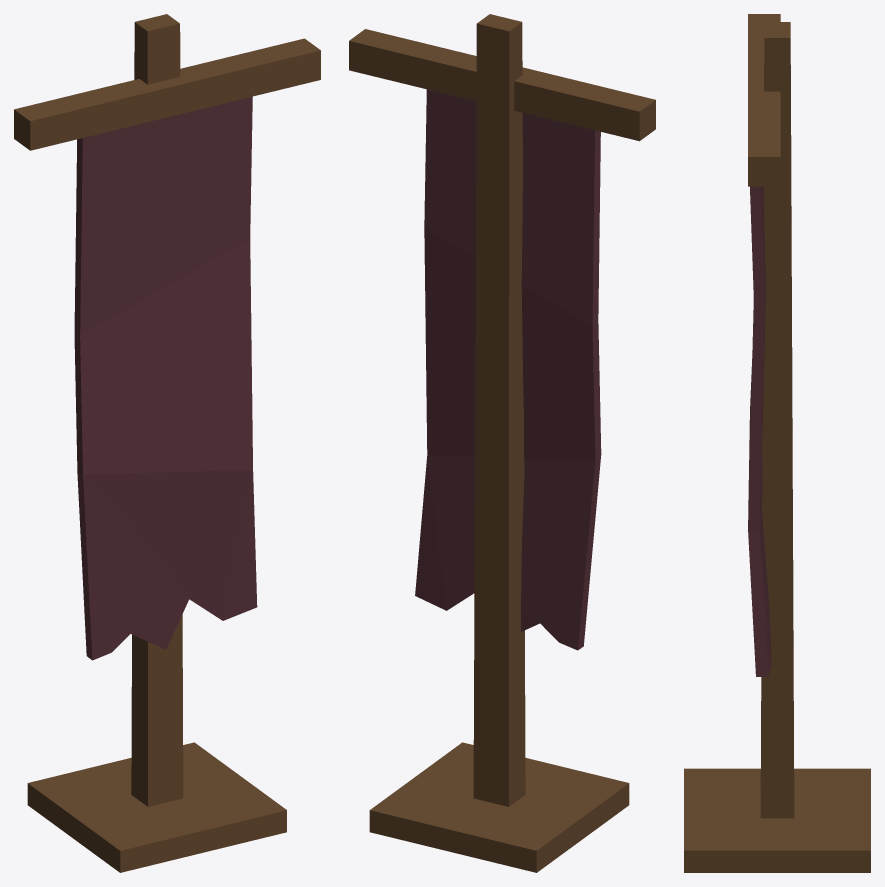
The model's file is tribal-flag-stand-tribal.glb.
3 renders of one model, left to right at view 1: azimuth 30°, elevation 25°; view 2: azimuth 150°, elevation 25°; view 3: azimuth 270°, elevation 25°, orthographic.
Parts seen in each view (by area): view 1: SM_Flag_Stand_Tribal; view 2: SM_Flag_Stand_Tribal; view 3: SM_Flag_Stand_Tribal.
Part boxes in pixels (x1=…): SM_Flag_Stand_Tribal: x1=14, y1=14, x2=320, y2=872; SM_Flag_Stand_Tribal: x1=349, y1=14, x2=655, y2=872; SM_Flag_Stand_Tribal: x1=684, y1=14, x2=870, y2=872.
Bounding box in the file's own units: 1.38 × 3.6 × 0.7597.
